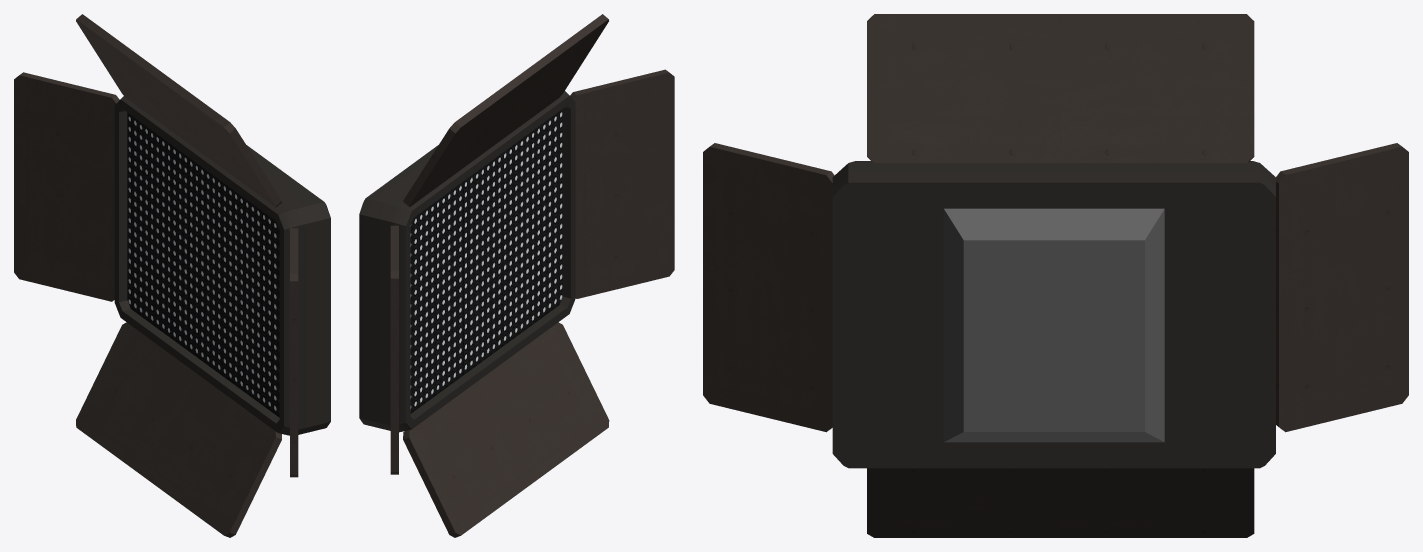
File: GYM_Studio_Light_2.fbx
3 renders of one model, left to right at view 1: azimuth 30°, elevation 25°; view 2: azimuth 150°, elevation 25°; view 3: azimuth 270°, elevation 25°, orthographic. The views are drawn at different scales.
Parts seen in each view (by area): view 1: GYM_Studio_Light_2; view 2: GYM_Studio_Light_2; view 3: GYM_Studio_Light_2.
Part boxes in pixels (x1=…): GYM_Studio_Light_2: x1=14, y1=14, x2=330, y2=537; GYM_Studio_Light_2: x1=359, y1=14, x2=674, y2=537; GYM_Studio_Light_2: x1=703, y1=14, x2=1408, y2=537.
Bounding box in the file's own units: 0.3181 × 1.17 × 1.43.
Materials: 4 (2 with a texture image).
